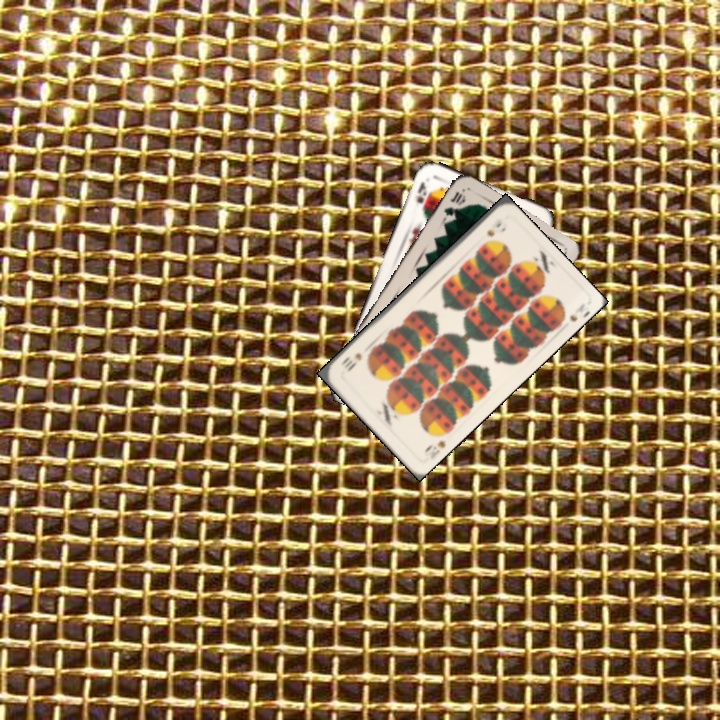G10: (440, 187, 468, 219)
S10: (420, 436, 448, 462), (483, 214, 505, 240)
SK: (412, 178, 433, 213)
